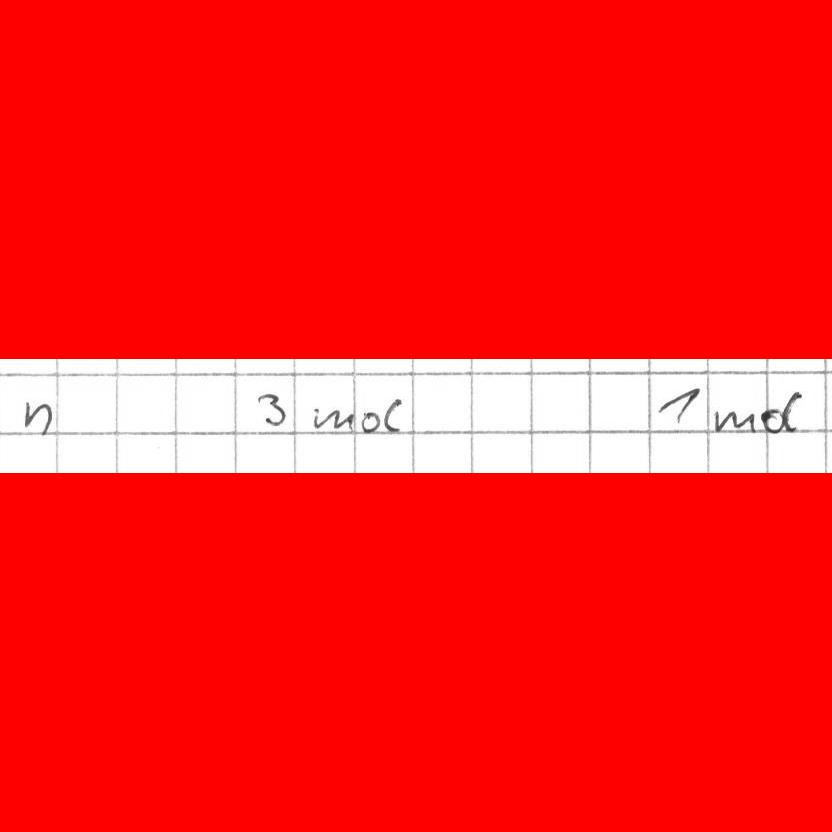Char: (656, 387, 699, 424), (21, 397, 54, 436), (778, 389, 804, 433), (714, 404, 752, 433), (255, 390, 284, 428), (313, 405, 353, 432), (383, 395, 405, 432), (757, 404, 782, 435), (360, 409, 380, 433)
